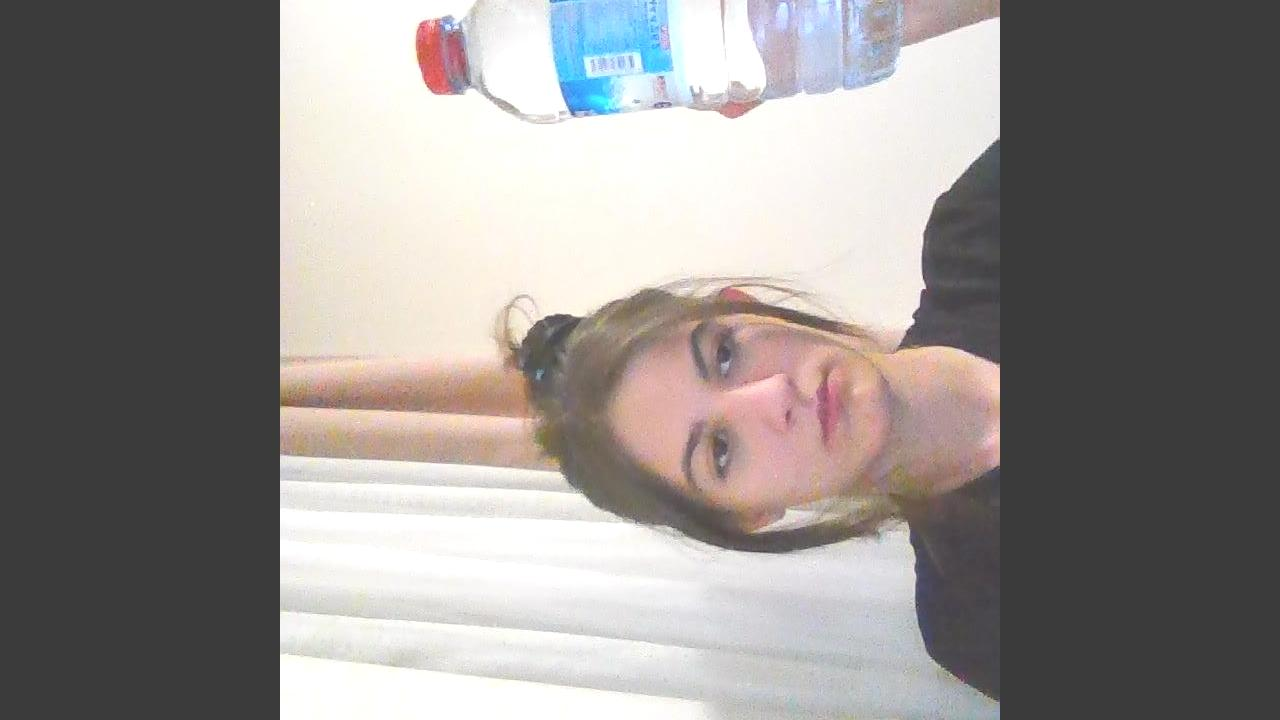bottle: (414, 0, 901, 123)
